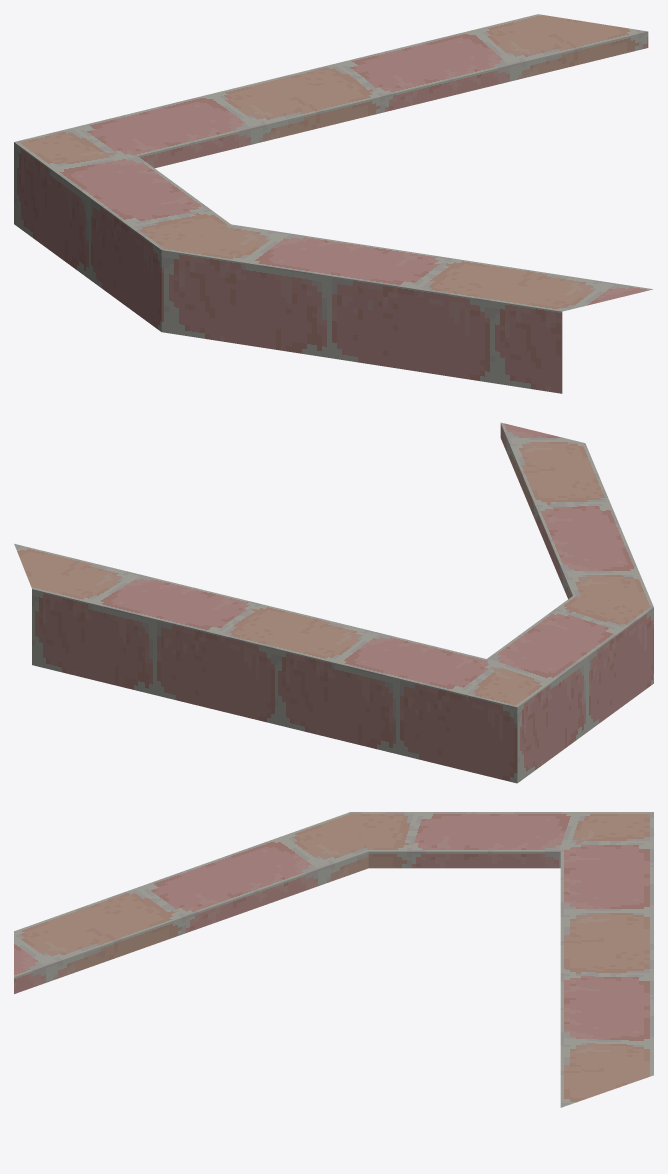
File: kd_stage_135c43_3_4_bounded.glb
3 renders of one model, top to bottom at view 1: azimuth 30°, elevation 25°; view 2: azimuth 150°, elevation 25°; view 3: azimuth 270°, elevation 25°, orthographic. The views are drawn at different scales.
Parts seen in each view (by area): view 1: kd_stage_135c43_3_4_bounded; view 2: kd_stage_135c43_3_4_bounded; view 3: kd_stage_135c43_3_4_bounded.
Boxes of the visible parts, box(x1,y1,x2,y2) form: kd_stage_135c43_3_4_bounded: box(14, 14, 652, 393); kd_stage_135c43_3_4_bounded: box(14, 422, 653, 783); kd_stage_135c43_3_4_bounded: box(14, 812, 653, 1107).
Bounding box in the file's own units: 0.7503 × 0.1 × 0.6859.
Materials: 1 (1 with a texture image).
